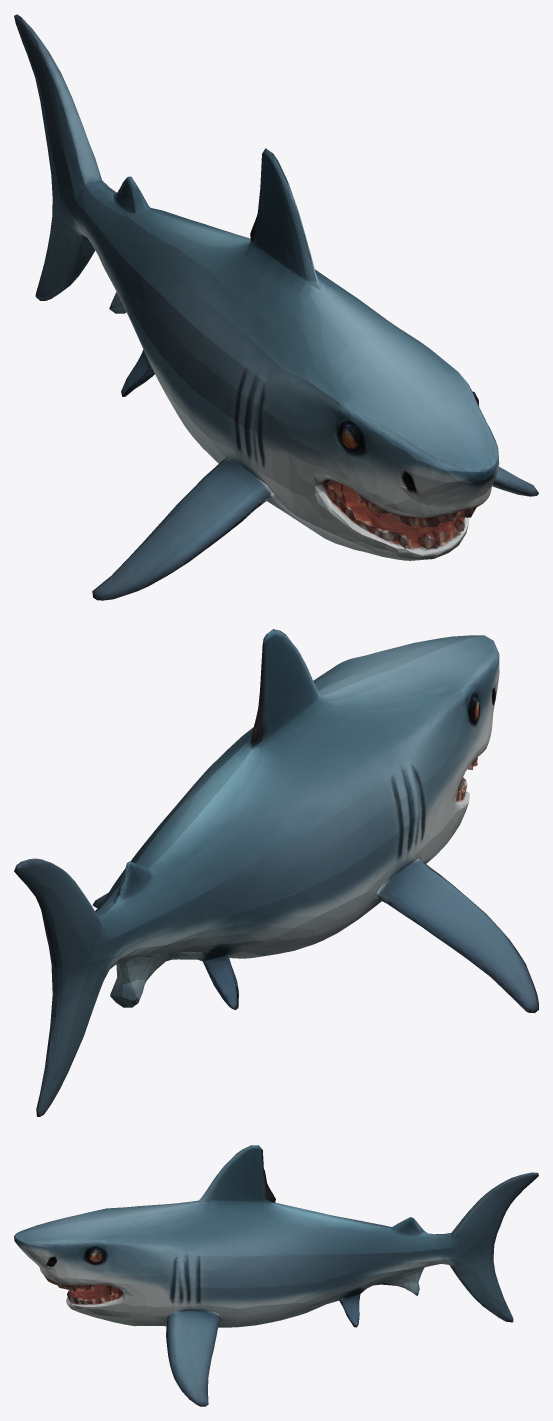
The model's file is shark.glb.
The picture shows the model from 3 angles, top to bottom: view 1: azimuth 30°, elevation 25°; view 2: azimuth 150°, elevation 25°; view 3: azimuth 270°, elevation 25°; orthographic projection. The views are drawn at different scales.
Parts seen in each view (by area): view 1: world; view 2: world; view 3: world.
Part boxes in pixels (x1,y1,x2,y2): world: (14,14,538,600); world: (14,629,538,1116); world: (14,1145,538,1406).
Bounding box in the file's own units: 0.5424 × 0.4234 × 0.9989.
Materials: 1 (1 with a texture image).
